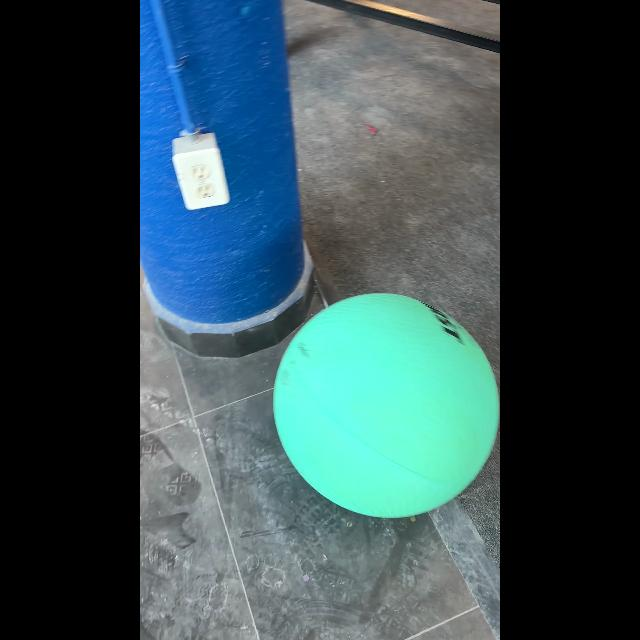ALGAE: (272, 291, 498, 519)
